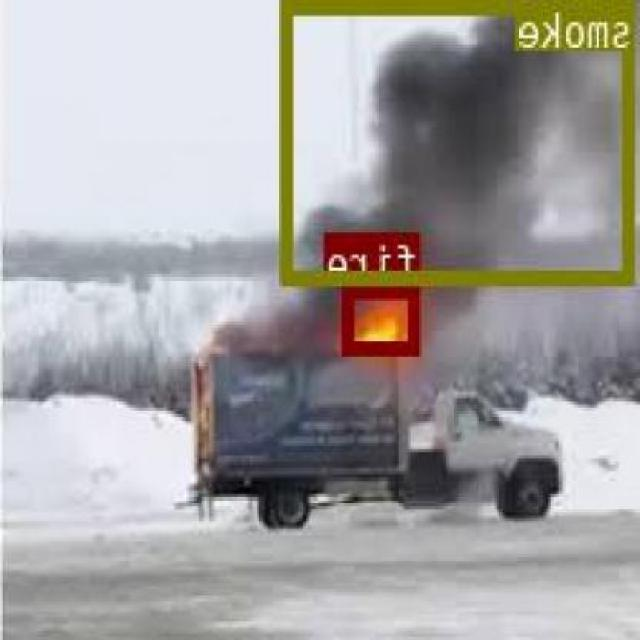Fire: (346, 283, 422, 351)
Smoke: (284, 0, 636, 283)
